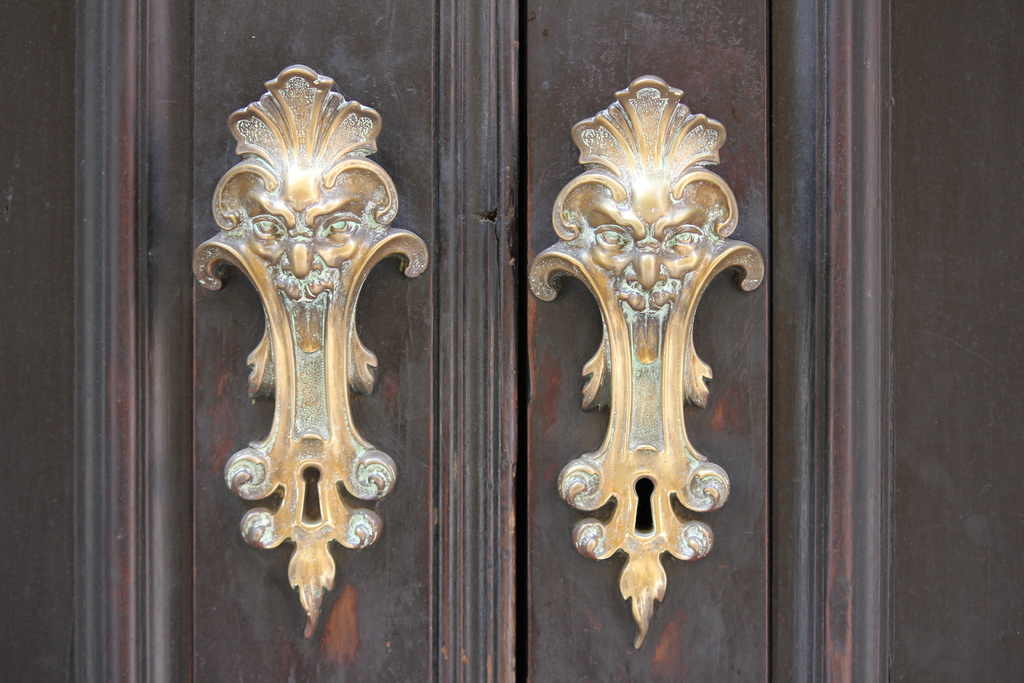door: (526, 28, 1018, 683), (20, 36, 499, 683)
